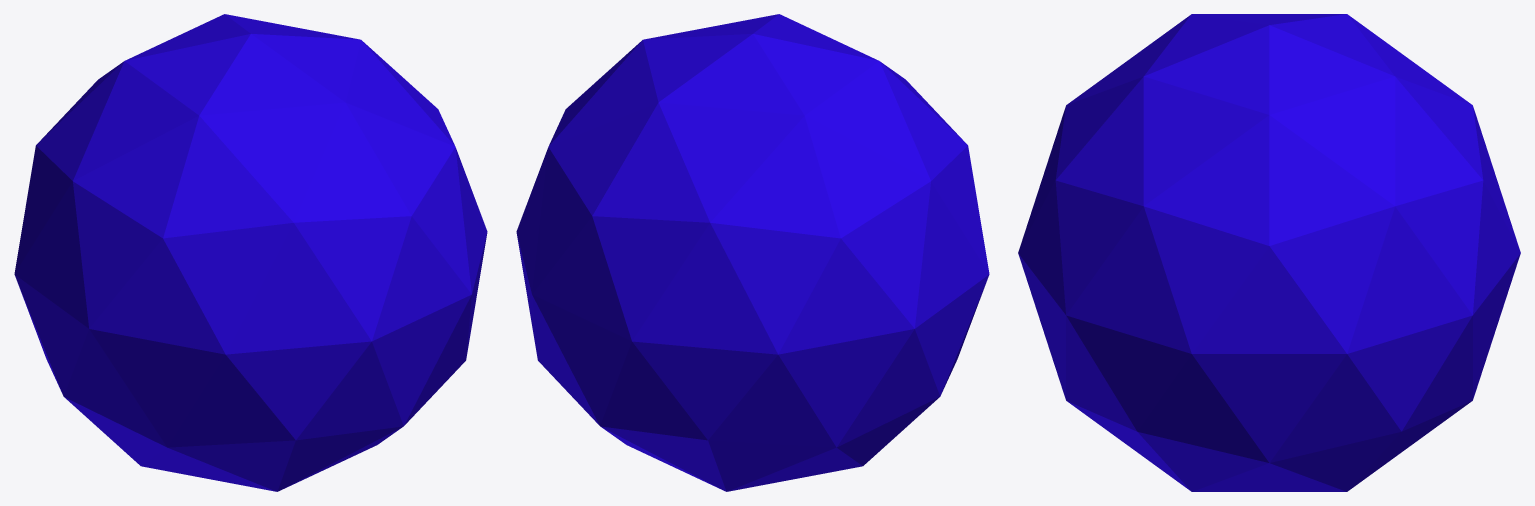
The model's file is Health Orb.fbx.
3 views of the same model, side by side, from view 1: azimuth 30°, elevation 25°; view 2: azimuth 150°, elevation 25°; view 3: azimuth 270°, elevation 25° (orthographic). The views are drawn at different scales.
Visible parts, largest first — view 1: Health Orb; view 2: Health Orb; view 3: Health Orb.
Boxes of the visible parts, <box> form: Health Orb: <box>14,14,487,491</box>; Health Orb: <box>516,14,989,491</box>; Health Orb: <box>1018,14,1520,491</box>.
Bounding box in the file's own units: 190 × 200 × 200.
